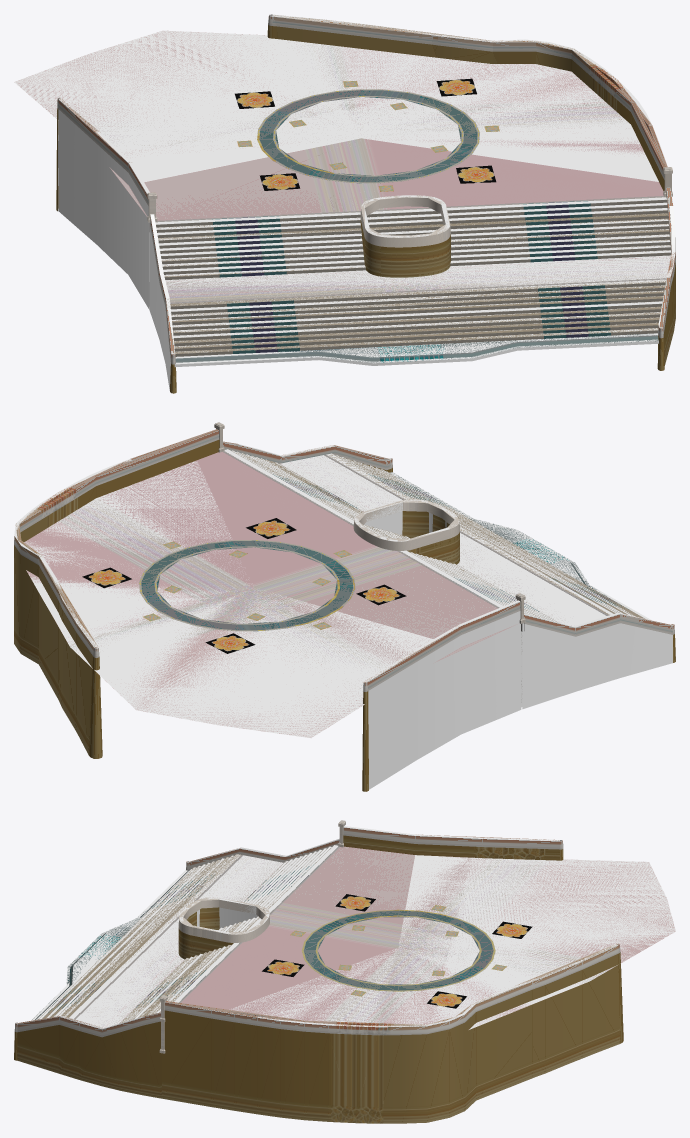
The model's file is objects_un_c01park01.gltf.
3 views of the same model, one above another, from view 1: azimuth 30°, elevation 25°; view 2: azimuth 150°, elevation 25°; view 3: azimuth 270°, elevation 25° (orthographic). The views are drawn at different scales.
Visible parts, largest first — view 1: um_objects_un_c01park01_model_lod0Shape:objects_un_c01park01, um_objects_un_c01park01_model_lod0Shape:objects_un_c01square (×7), um_objects_un_c01park01_model_lod1Shape:objects_un_c01square (×6), um_objects_un_c01park01_model_lod2Shape:objects_un_c01square (×4); view 2: um_objects_un_c01park01_model_lod0Shape:objects_un_c01park01, um_objects_un_c01park01_model_lod1Shape:objects_un_c01square (×6), um_objects_un_c01park01_model_lod0Shape:objects_un_c01square (×7), um_objects_un_c01park01_model_lod2Shape:objects_un_c01square (×3); view 3: um_objects_un_c01park01_model_lod0Shape:objects_un_c01square (×7), um_objects_un_c01park01_model_lod0Shape:objects_un_c01park01, um_objects_un_c01park01_model_lod1Shape:objects_un_c01square (×6), um_objects_un_c01park01_model_lod2Shape:objects_un_c01square (×3).
Boxes of the visible parts, box(x1,y1,x2,y2) form: um_objects_un_c01park01_model_lod0Shape:objects_un_c01park01: box(14, 14, 675, 390); um_objects_un_c01park01_model_lod0Shape:objects_un_c01square (×7): box(56, 14, 675, 393); um_objects_un_c01park01_model_lod1Shape:objects_un_c01square (×6): box(14, 17, 675, 362); um_objects_un_c01park01_model_lod2Shape:objects_un_c01square (×4): box(148, 16, 671, 365); um_objects_un_c01park01_model_lod0Shape:objects_un_c01park01: box(14, 438, 673, 789); um_objects_un_c01park01_model_lod1Shape:objects_un_c01square (×6): box(15, 423, 671, 737); um_objects_un_c01park01_model_lod0Shape:objects_un_c01square (×7): box(14, 422, 675, 791); um_objects_un_c01park01_model_lod2Shape:objects_un_c01square (×3): box(19, 423, 523, 660); um_objects_un_c01park01_model_lod0Shape:objects_un_c01square (×7): box(14, 820, 623, 1123); um_objects_un_c01park01_model_lod0Shape:objects_un_c01park01: box(15, 826, 675, 1029); um_objects_un_c01park01_model_lod1Shape:objects_un_c01square (×6): box(32, 821, 675, 1100); um_objects_un_c01park01_model_lod2Shape:objects_un_c01square (×3): box(17, 820, 613, 1078).
Bounding box in the file's own units: 67.72 × 13.97 × 82.26.
Materials: 8 (7 with a texture image).
